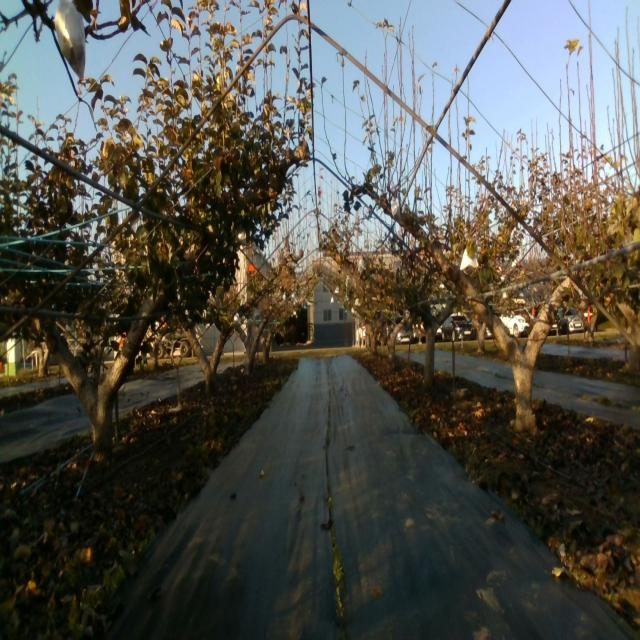pearbags: (54, 0, 85, 83), (460, 249, 479, 270), (234, 223, 247, 246), (390, 200, 400, 221)
